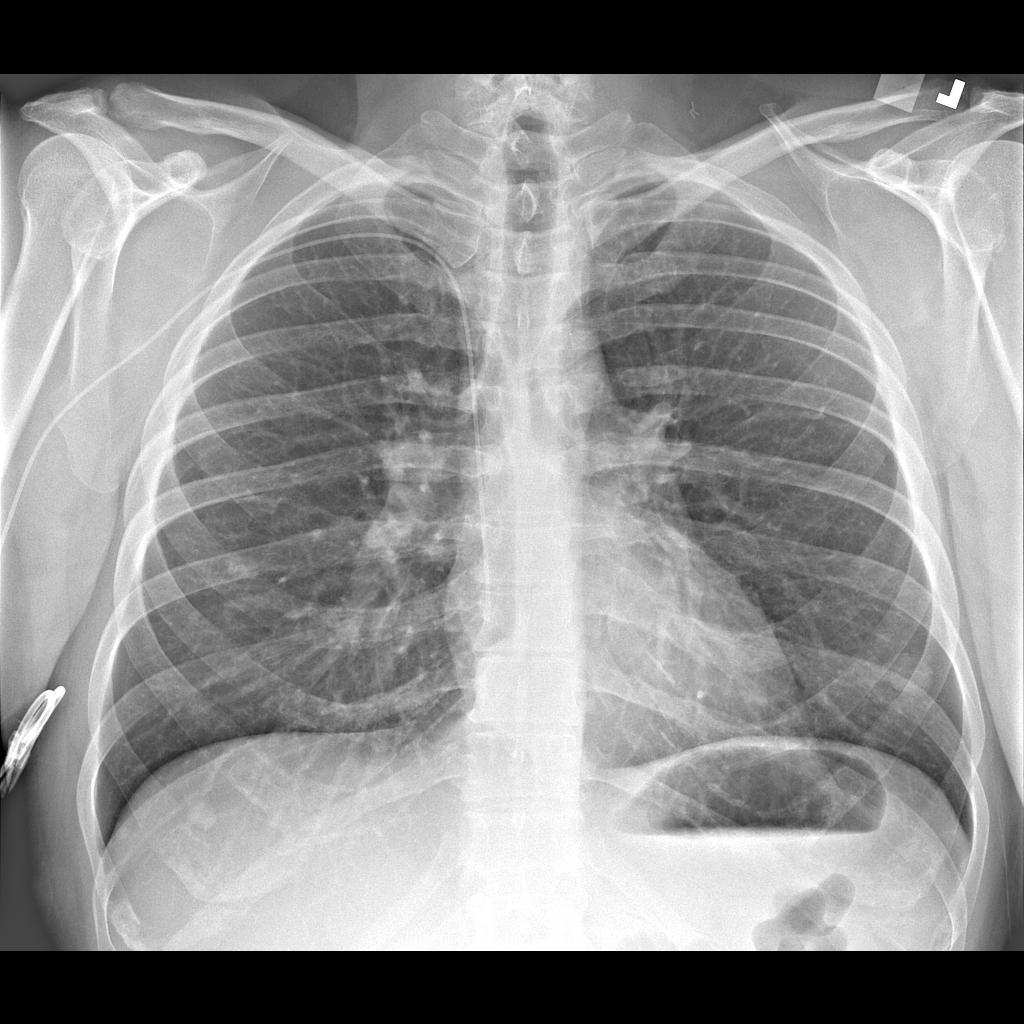Nodule: (888, 652, 937, 708), (223, 546, 267, 589)
